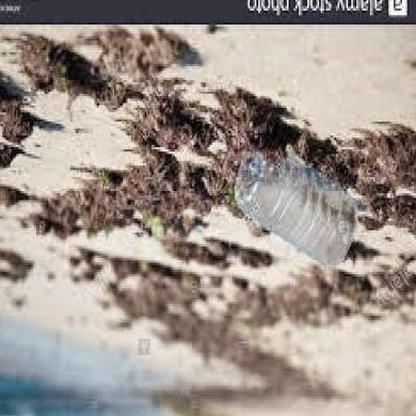plastic bottle: (234, 157, 354, 265)
